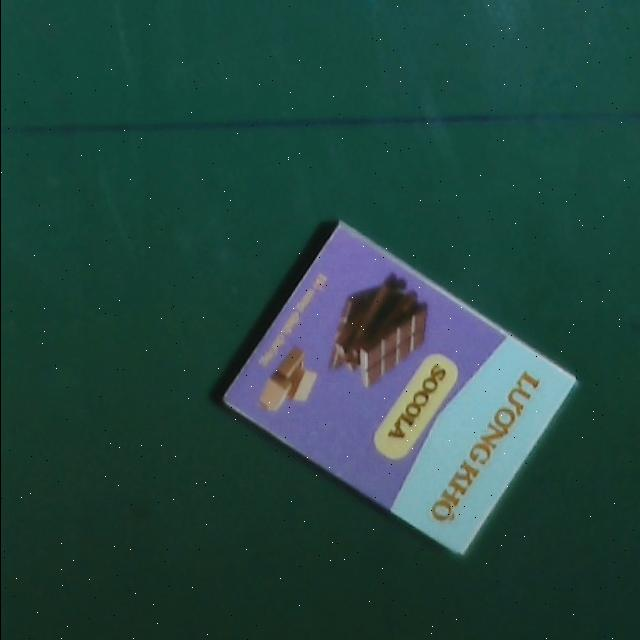socola: (219, 220, 578, 559)
